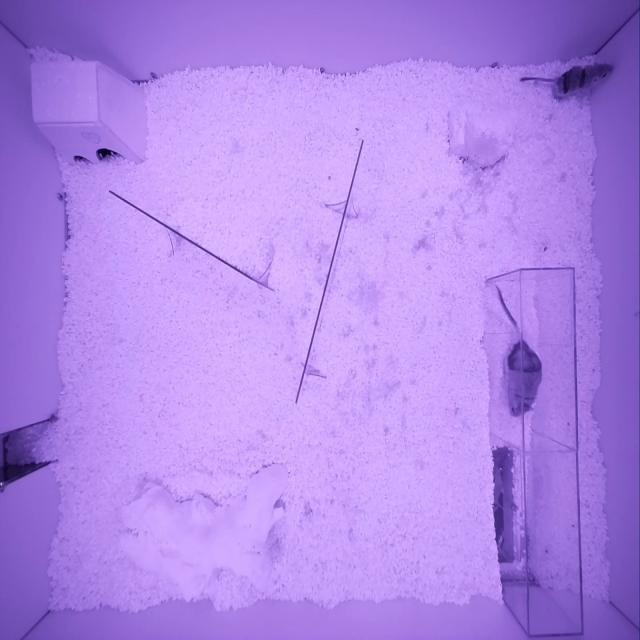adult_back: (507, 339, 542, 417)
pup_h_stripe: (556, 63, 614, 95)
